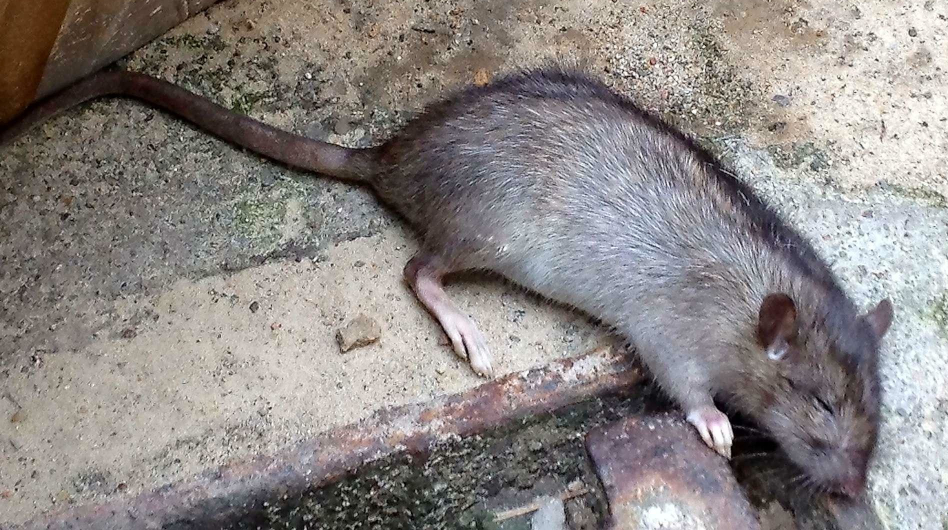rat: (150, 47, 921, 518)
